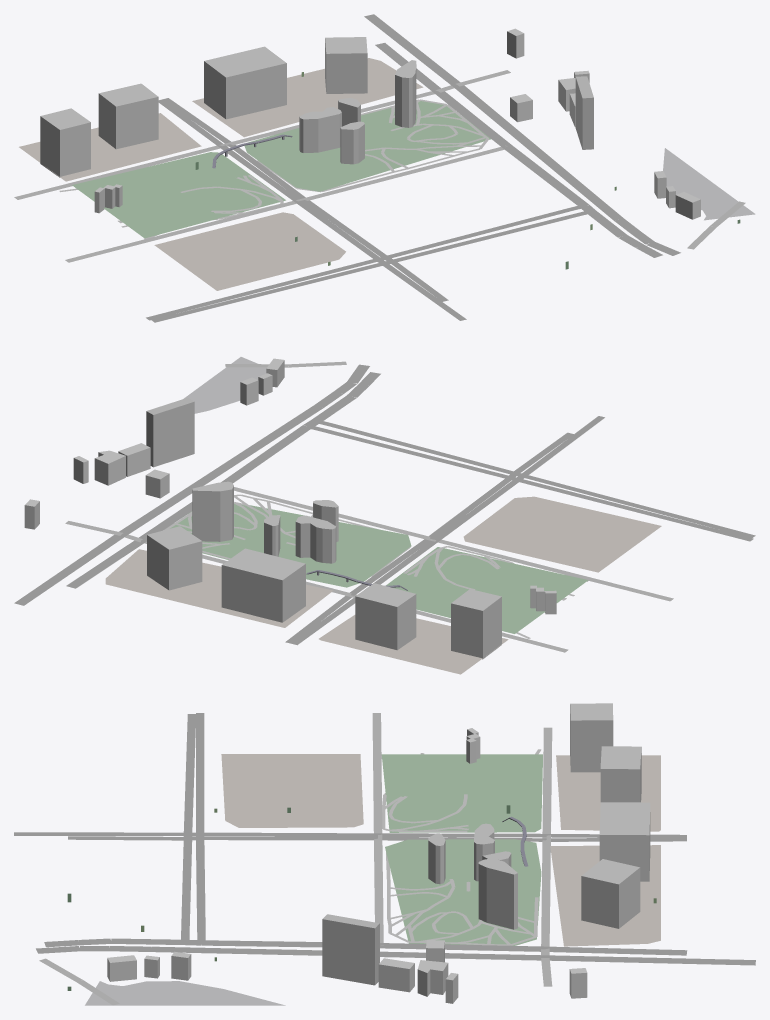
3 renders of one model, top to bottom at view 1: azimuth 30°, elevation 25°; view 2: azimuth 150°, elevation 25°; view 3: azimuth 270°, elevation 25°, orthographic. The views are drawn at different scales.
Bounding box in the file's own units: 587 × 59.49 × 608.
